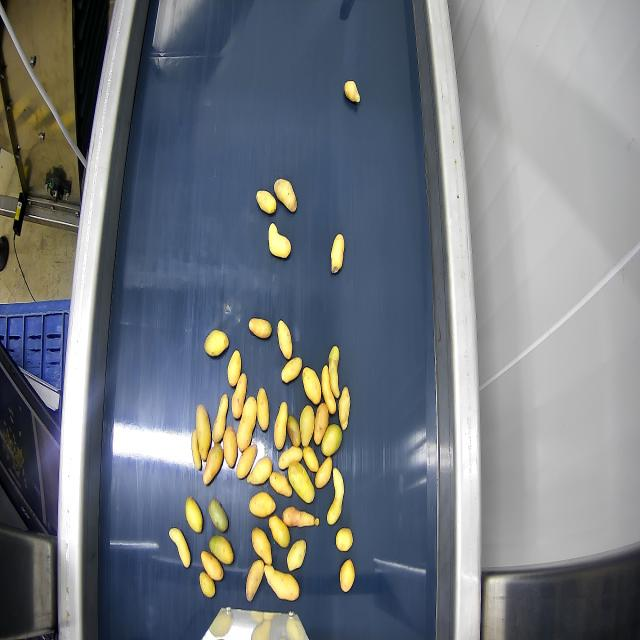Baby Potato: (265, 566, 299, 600), (288, 462, 314, 503), (237, 397, 256, 451), (202, 443, 224, 485), (327, 468, 343, 525), (168, 527, 190, 568), (196, 404, 212, 460), (212, 394, 228, 442), (268, 224, 290, 258), (246, 560, 264, 601), (321, 366, 336, 415), (274, 179, 296, 212), (321, 424, 343, 456), (247, 457, 272, 485), (283, 507, 318, 527), (252, 528, 271, 564), (302, 368, 321, 404), (209, 536, 233, 564), (208, 499, 228, 532), (236, 446, 256, 479), (249, 492, 275, 517), (232, 373, 246, 419), (269, 516, 289, 548), (274, 402, 287, 450), (201, 552, 223, 580), (185, 497, 202, 533), (205, 330, 228, 356), (287, 540, 306, 571), (223, 426, 237, 468), (314, 403, 328, 445), (277, 320, 292, 359), (315, 457, 333, 489), (300, 405, 314, 446), (269, 472, 292, 496), (281, 357, 302, 383), (278, 448, 302, 470), (329, 346, 339, 398), (331, 234, 344, 273), (228, 350, 241, 387), (339, 387, 350, 430), (257, 388, 268, 431), (249, 318, 271, 339), (256, 191, 276, 214), (340, 560, 354, 592), (287, 416, 300, 447), (303, 446, 318, 472), (200, 572, 215, 598), (192, 430, 201, 471), (336, 528, 352, 551), (344, 80, 360, 103)
